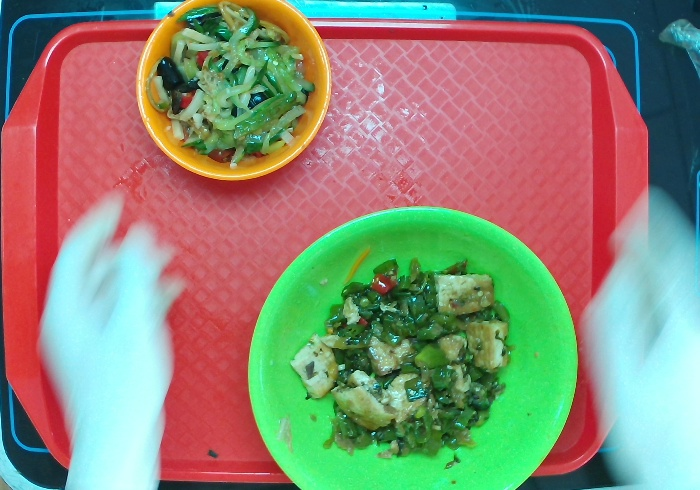YKMZ-Ju_Se_Yuan_Wan: (133, 1, 335, 181)
YKMZ-Lv_Se_Tang_Wan: (244, 206, 580, 490)
